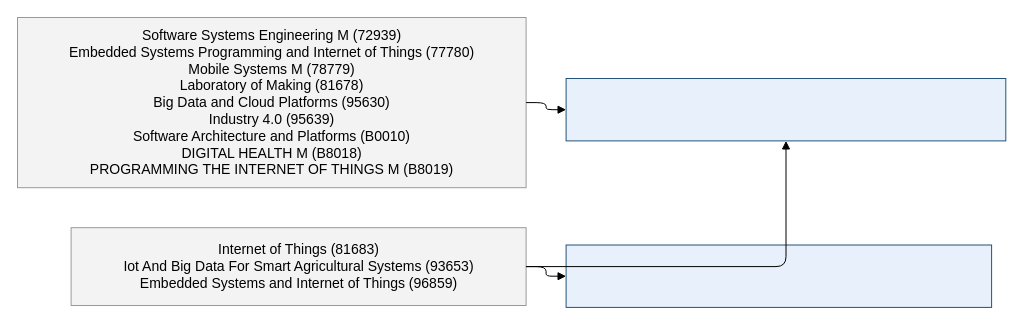
The diagram is 1024 pixels wide and 325 high, and some of its shapes have lost their labels. Here are the shapes that lost their labels. From the top down, the box of each, then its label:
(565, 78, 1006, 141): Agricultural IoT Foundations, Networks, and Platforms 6 ECTS
(565, 244, 992, 307): Agricultural Embedded IoT Programming and Edge AI 3 ECTS
